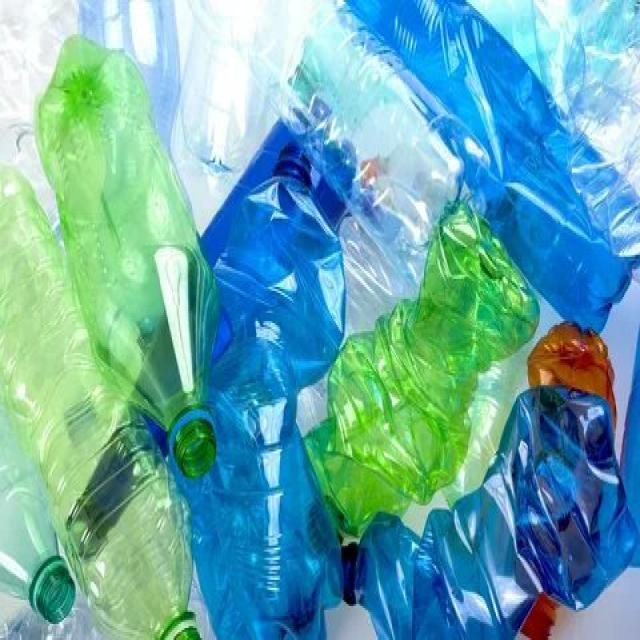brown: (526, 319, 614, 388)
green: (0, 155, 203, 639), (34, 34, 218, 482), (303, 199, 540, 538)
